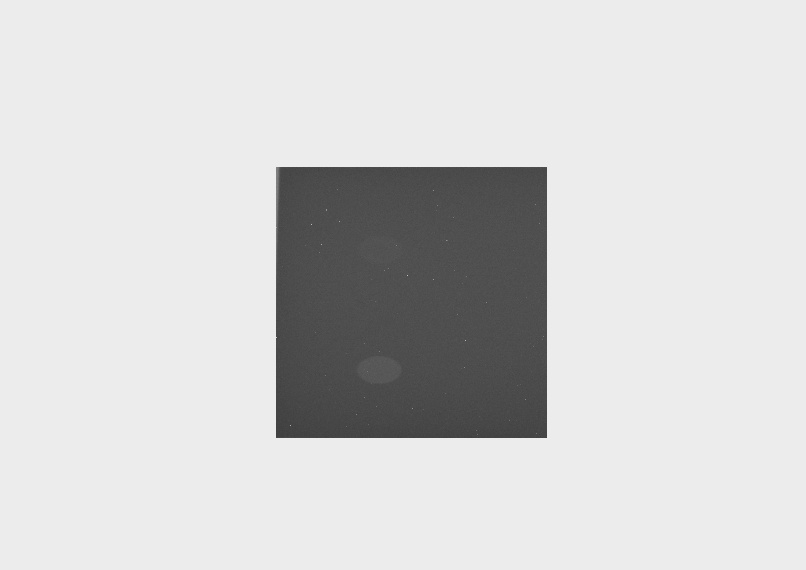bubble: (357, 355, 401, 384), (358, 235, 403, 260)
